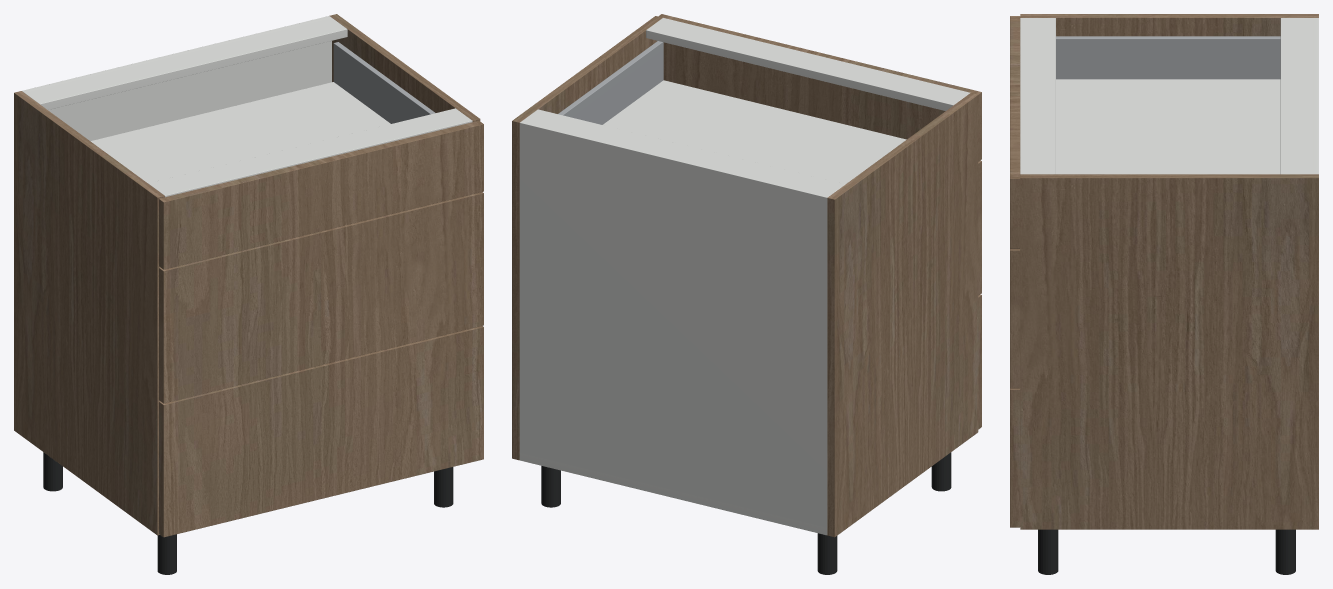
File: oppein-pb-mnw-3db30.glb
3 views of the same model, side by side, from view 1: azimuth 30°, elevation 25°; view 2: azimuth 150°, elevation 25°; view 3: azimuth 270°, elevation 25° (orthographic). The views are drawn at different scales.
Parts seen in each view (by area): view 1: Cabinet side, Drawer front, Drawer front.001, Drawer front.002, Drawer floor.002, Cabinet back, Top support rail, Top support rail.001, Drawer side.005, Cabinet side.001, Adjustable foot.001, Adjustable foot.003 (+1 smaller); view 2: Cabinet back, Cabinet side, Drawer floor.002, Drawer front.002, Top support rail.001, Cabinet side.001, Top support rail, Drawer side.005, Cabinet bottom, Adjustable foot, Adjustable foot.002, Adjustable foot.001; view 3: Cabinet side.001, Drawer floor.002, Drawer side.004, Top support rail.001, Cabinet side, Top support rail, Drawer front.002, Drawer front, Drawer front.001, Adjustable foot.003, Adjustable foot.002, Cabinet back.
Boxes of the visible parts, left/top/right/bottom form: Cabinet side: left=14, top=91, right=164, bottom=535; Drawer front: left=159, top=326, right=483, bottom=537; Drawer front.001: left=159, top=192, right=483, bottom=403; Drawer front.002: left=159, top=120, right=483, bottom=269; Drawer floor.002: left=90, top=82, right=390, bottom=183; Cabinet back: left=22, top=16, right=331, bottom=140; Top support rail: left=23, top=17, right=347, bottom=109; Top support rail.001: left=148, top=108, right=472, bottom=197; Drawer side.005: left=333, top=42, right=435, bottom=123; Cabinet side.001: left=329, top=14, right=480, bottom=121; Adjustable foot.001: left=157, top=534, right=176, bottom=574; Adjustable foot.003: left=434, top=467, right=453, bottom=507; Cabinet back: left=519, top=120, right=829, bottom=534; Cabinet side: left=827, top=93, right=978, bottom=537; Drawer floor.002: left=603, top=80, right=906, bottom=184; Drawer front.002: left=658, top=14, right=981, bottom=161; Top support rail.001: left=646, top=18, right=970, bottom=110; Cabinet side.001: left=512, top=16, right=662, bottom=460; Top support rail: left=523, top=109, right=844, bottom=195; Drawer side.005: left=558, top=41, right=663, bottom=124; Cabinet bottom: left=520, top=453, right=826, bottom=535; Adjustable foot: left=817, top=533, right=837, bottom=574; Adjustable foot.002: left=541, top=466, right=560, bottom=507; Adjustable foot.001: left=931, top=452, right=951, bottom=491; Cabinet side.001: left=1020, top=174, right=1318, bottom=529; Drawer floor.002: left=1056, top=79, right=1280, bottom=174; Drawer side.004: left=1056, top=36, right=1280, bottom=79; Top support rail.001: left=1020, top=18, right=1055, bottom=174; Cabinet side: left=1020, top=14, right=1318, bottom=36; Top support rail: left=1280, top=18, right=1315, bottom=174; Drawer front.002: left=1010, top=16, right=1020, bottom=248; Drawer front: left=1010, top=388, right=1020, bottom=527; Drawer front.001: left=1010, top=249, right=1020, bottom=388; Adjustable foot.003: left=1038, top=529, right=1058, bottom=574; Adjustable foot.002: left=1275, top=529, right=1295, bottom=574; Cabinet back: left=1313, top=18, right=1318, bottom=174.
Size of the model in its own units: 0.762 by 0.8763 by 0.6064.
Materials: 4 (1 with a texture image).
